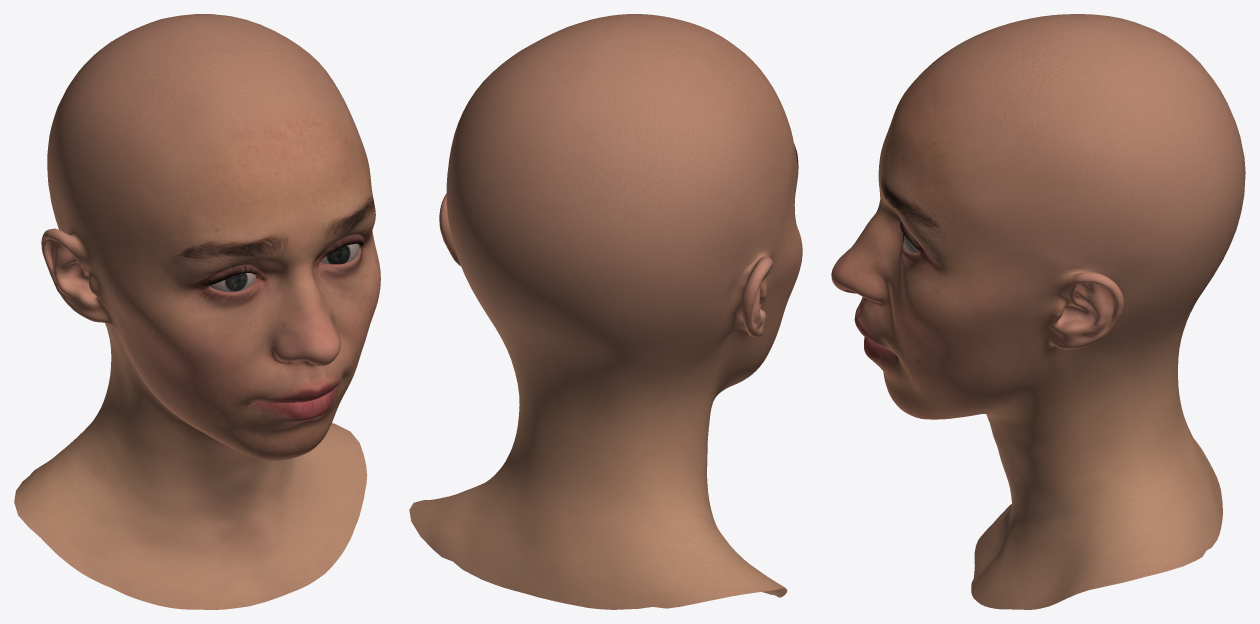
3 renders of one model, left to right at view 1: azimuth 30°, elevation 25°; view 2: azimuth 150°, elevation 25°; view 3: azimuth 270°, elevation 25°, orthographic. The views are drawn at different scales.
Visible parts, largest first — view 1: Registered head, right eye, left eye; view 2: Registered head; view 3: Registered head.
Part boxes in pixels (<box>): Registered head: <box>14,14,380,609</box>; right eye: <box>210,273,255,292</box>; left eye: <box>320,243,359,264</box>; Registered head: <box>409,14,802,609</box>; Registered head: <box>831,14,1245,609</box>.
Size of the model in its own units: 1.24 by 1.9 by 1.3.
Materials: 3 (3 with a texture image).
